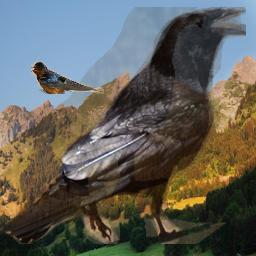Crow: (0, 7, 246, 244)
Swallow: (31, 61, 104, 94)
